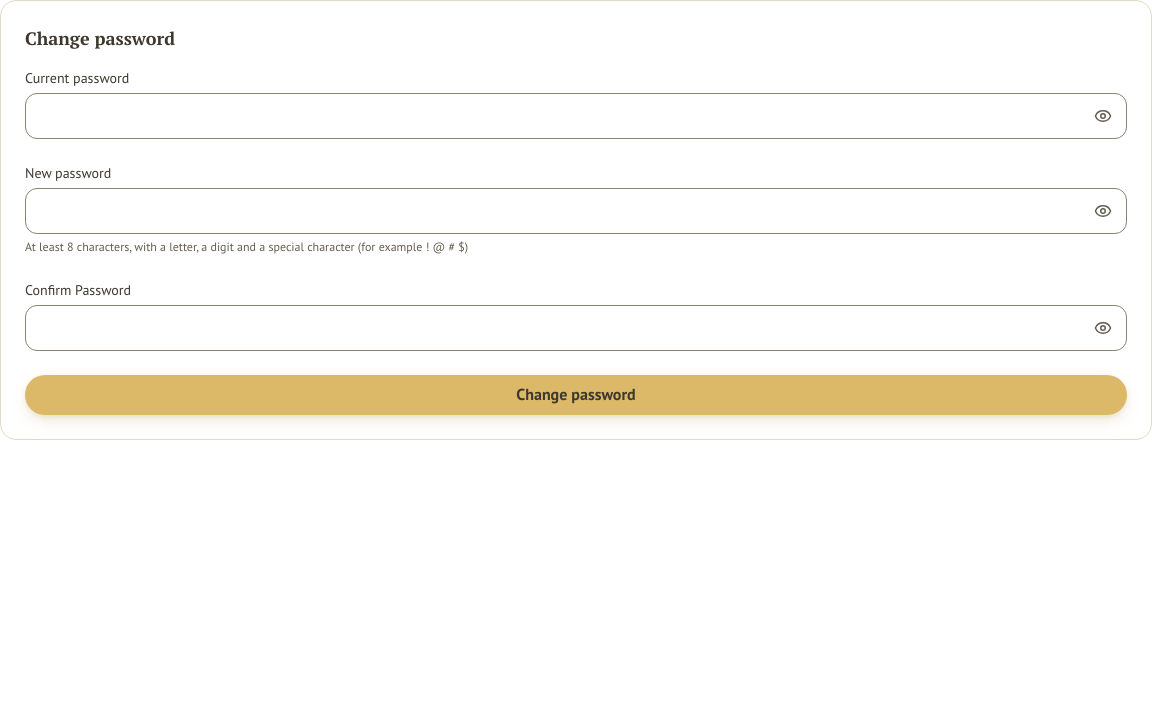
ChangePasswordForm › shows the server message for a wrong current password and keeps what was typed
Step 1. Type "wrong-current-1" into the password field labelled "Current password" → (576, 116), box [25, 93, 1127, 139]
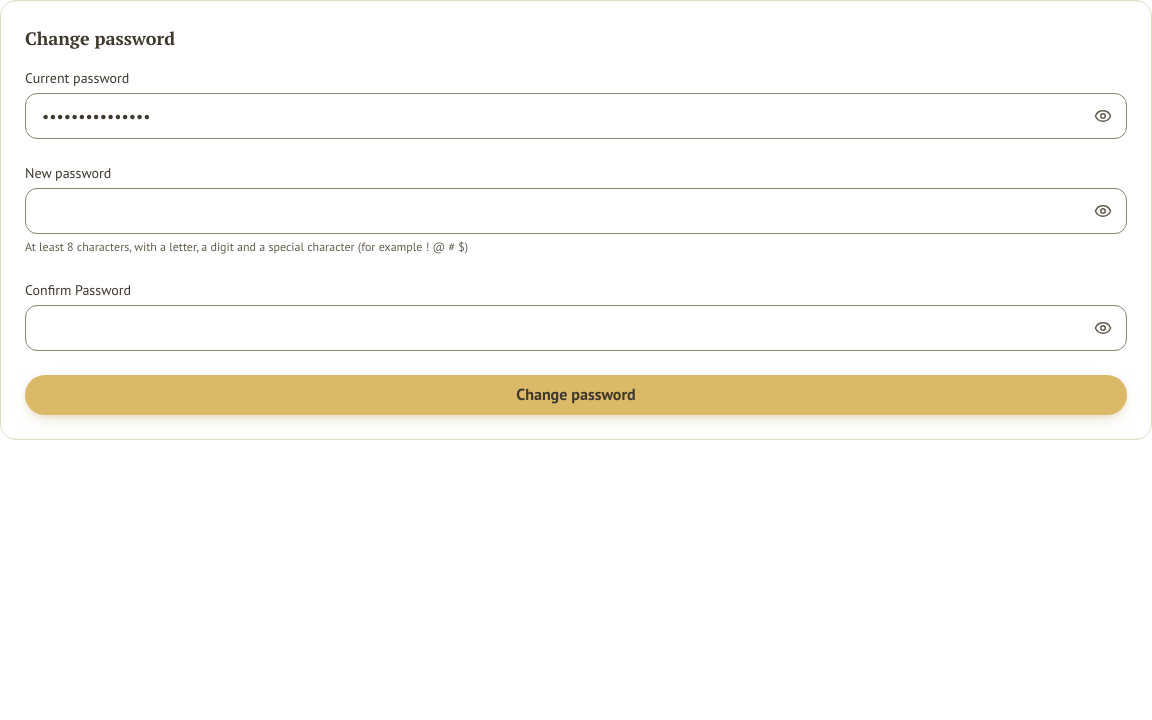
Step 2. Type "Fresh9Grape#Tower42" into the password field labelled "New password" → (576, 211), box [25, 188, 1127, 234]
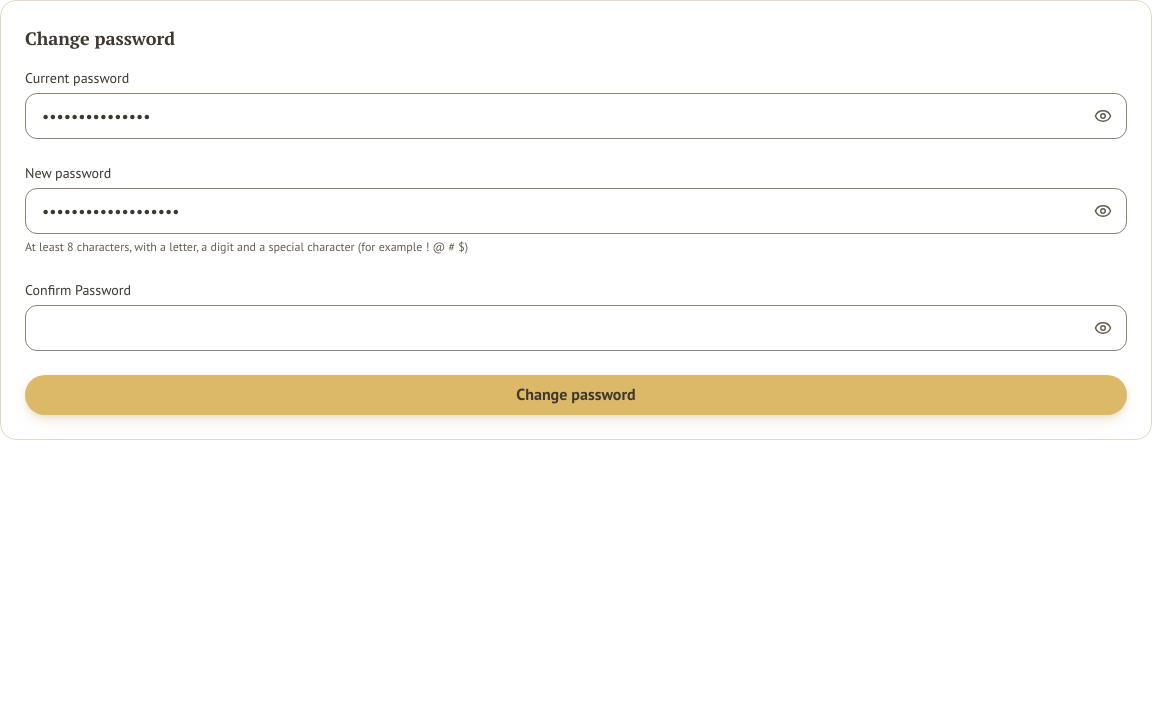
Step 3. Type "Fresh9Grape#Tower42" into the password field labelled "Confirm Password" → (576, 328), box [25, 305, 1127, 351]
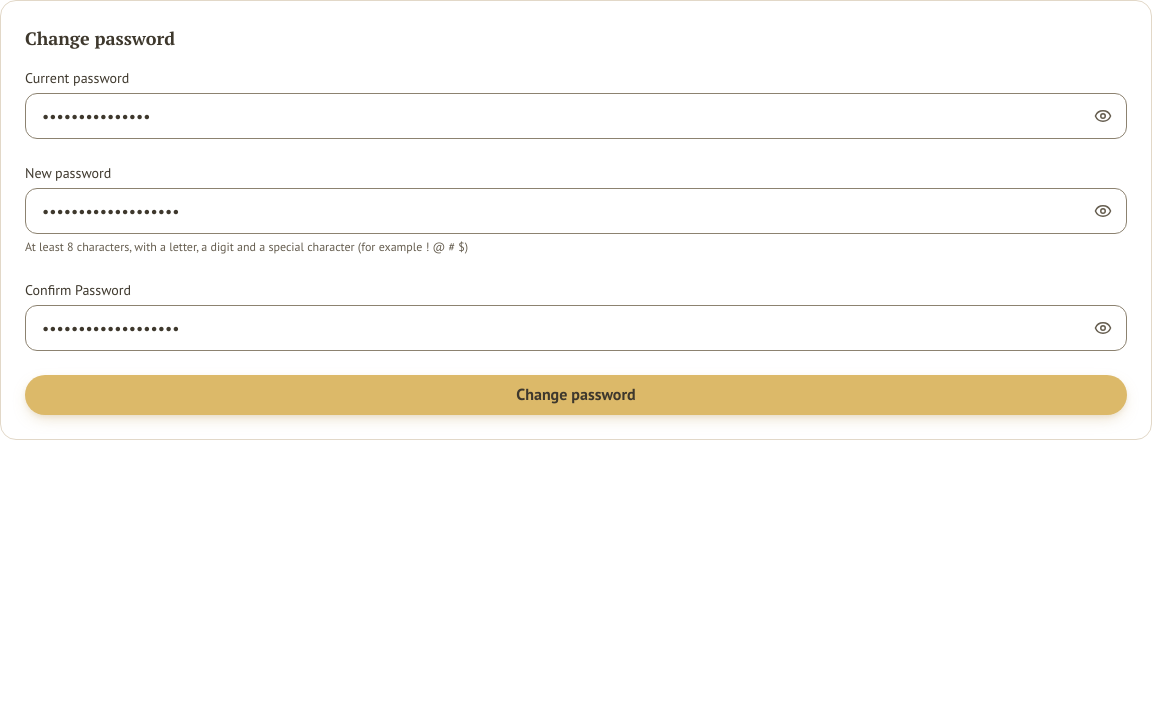
Step 4. Click the button "Change password" → (576, 395), box [25, 375, 1127, 415]
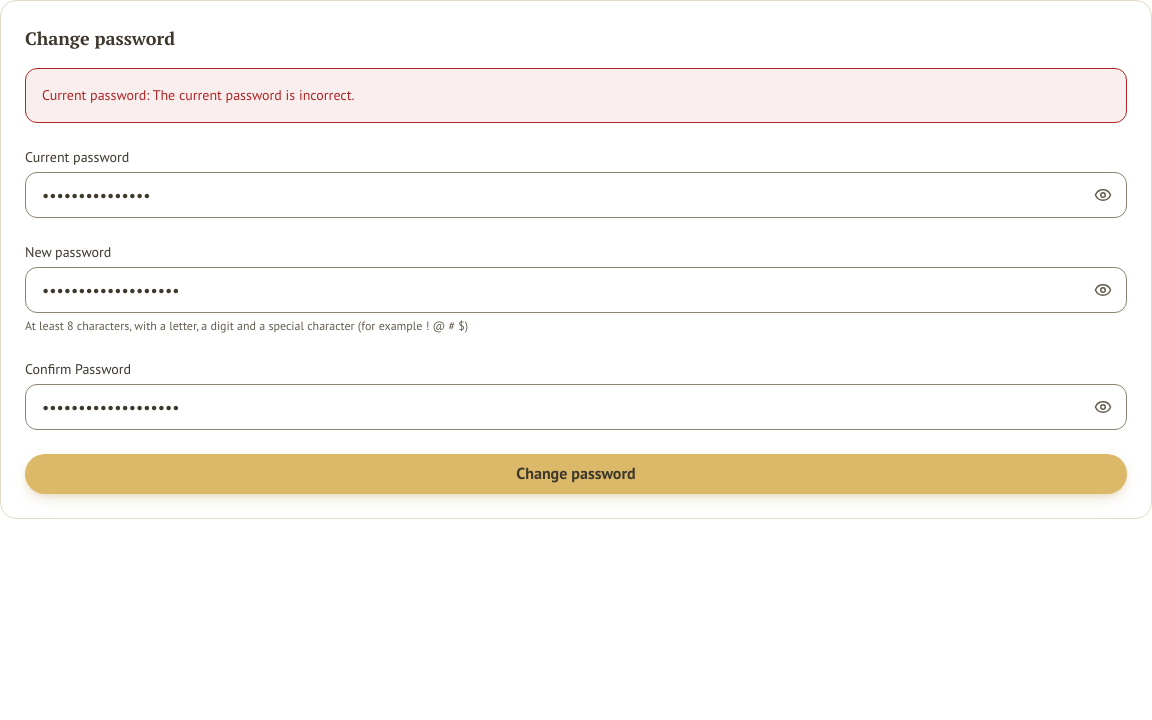
Result: the message shows "The current password is incorrect." at [42, 86, 355, 104]
